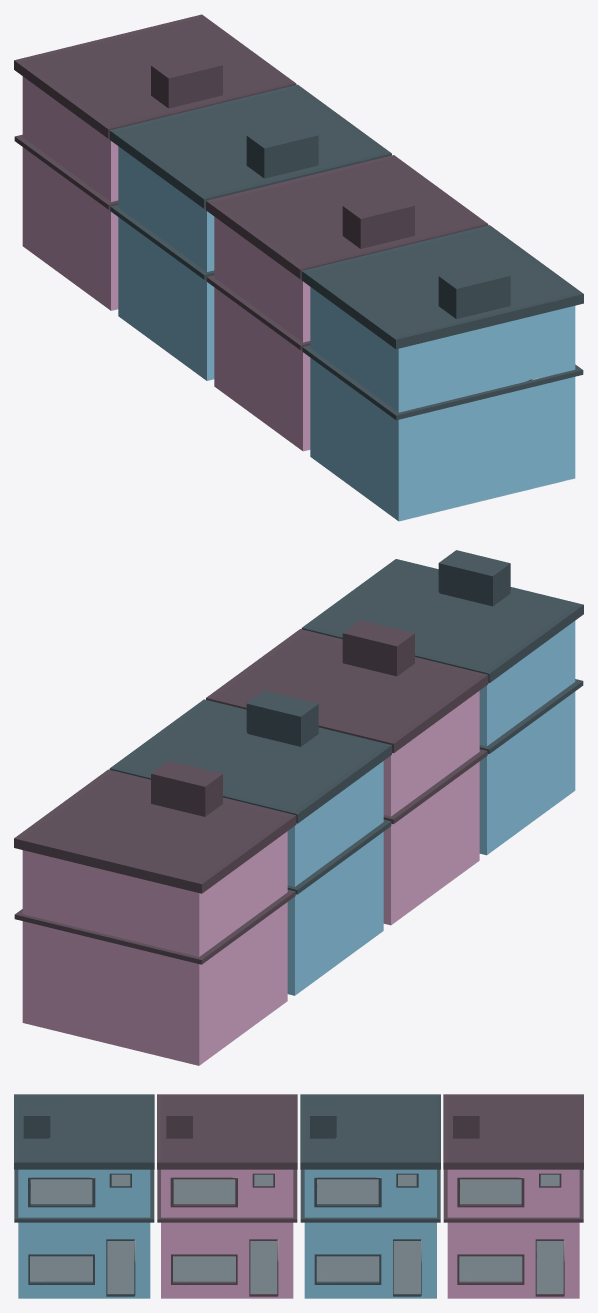
Rendered from huisjes.fbx.
3 views of the same model, one above another, from view 1: azimuth 30°, elevation 25°; view 2: azimuth 150°, elevation 25°; view 3: azimuth 270°, elevation 25° (orthographic). The views are drawn at different scales.
Visible parts, largest first — view 1: pCube6, pCube1, pCube5, pCube2; view 2: pCube2, pCube5, pCube1, pCube6; view 3: pCube1, pCube2, pCube5, pCube6.
Boxes of the visible parts, x1,y1,x2,y2 form: pCube6: (301,225,583,521); pCube1: (109,84,391,380); pCube5: (206,155,488,451); pCube2: (14,14,296,310); pCube2: (14,760,296,1065); pCube5: (206,620,488,925); pCube1: (109,690,391,995); pCube6: (301,550,583,855); pCube1: (300,1094,440,1298); pCube2: (443,1094,583,1298); pCube5: (157,1094,297,1298); pCube6: (14,1094,154,1298).
Bounding box in the file's own units: 5.02 × 5.48 × 17.65.
Materials: 2 (2 with a texture image).
